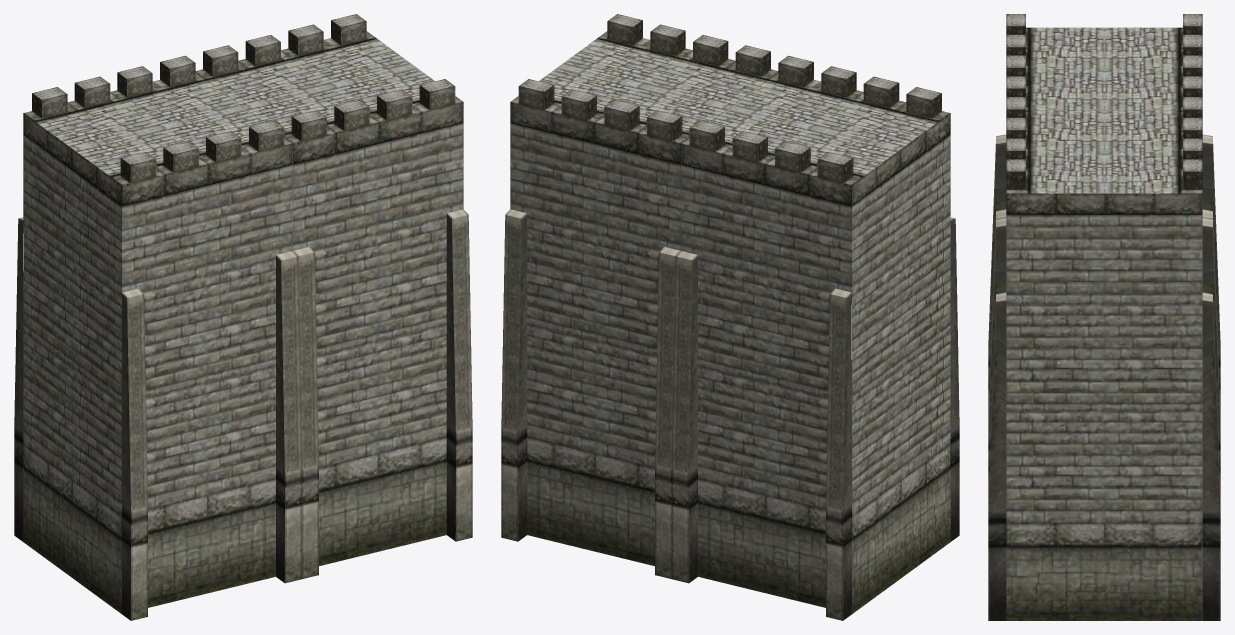
File: b1-bigdam-03.glb
The picture shows the model from 3 angles, left to right: view 1: azimuth 30°, elevation 25°; view 2: azimuth 150°, elevation 25°; view 3: azimuth 270°, elevation 25°; orthographic projection.
Visible parts, largest first — view 1: b1-bigdam-03; view 2: b1-bigdam-03; view 3: b1-bigdam-03.
Boxes of the visible parts, x1,y1,x2,y2 form: b1-bigdam-03: [14, 14, 472, 620]; b1-bigdam-03: [501, 14, 959, 620]; b1-bigdam-03: [988, 14, 1220, 620].
Bounding box in the file's own units: 20 × 25 × 11.84.
Materials: 1 (1 with a texture image).
